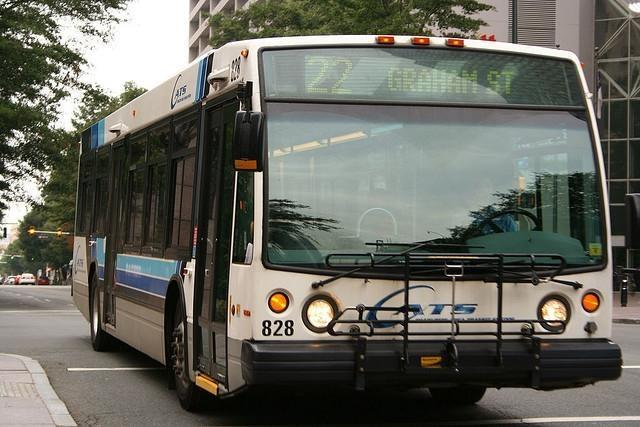bus: (71, 34, 623, 411)
car: (18, 273, 36, 285), (37, 276, 51, 285), (6, 276, 19, 284), (0, 277, 5, 284)
